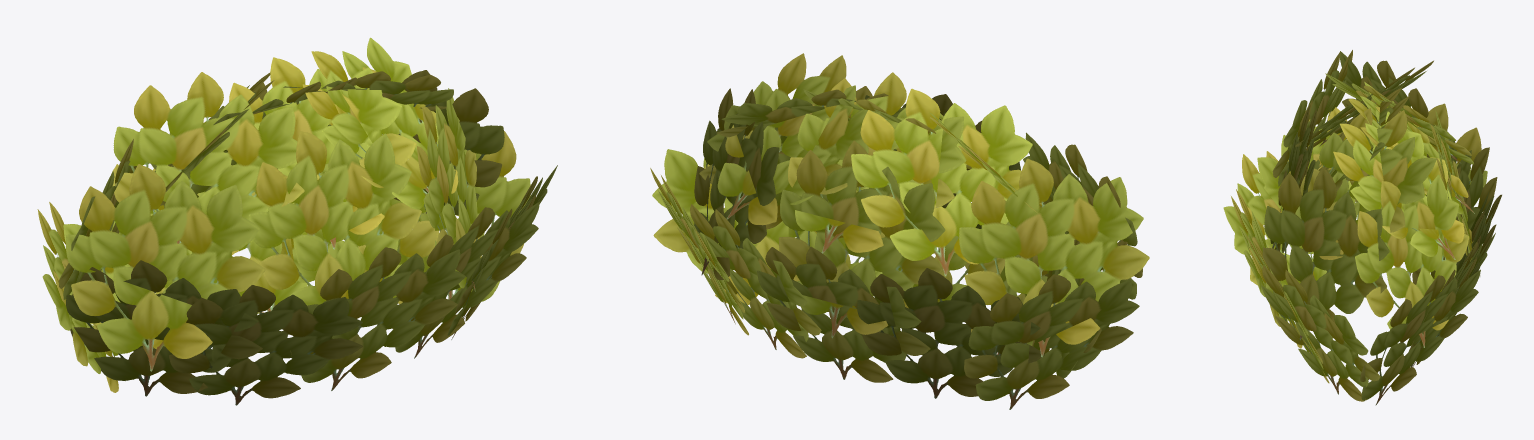
File: light-bush-003-56.glb
3 views of the same model, side by side, from view 1: azimuth 30°, elevation 25°; view 2: azimuth 150°, elevation 25°; view 3: azimuth 270°, elevation 25° (orthographic). The views are drawn at different scales.
Parts seen in each view (by area): view 1: light_bush.003_56; view 2: light_bush.003_56; view 3: light_bush.003_56.
Part boxes in pixels (bbox=[...]): light_bush.003_56: bbox=[37, 37, 557, 405]; light_bush.003_56: bbox=[650, 53, 1149, 409]; light_bush.003_56: bbox=[1223, 50, 1501, 405].
Size of the model in its own units: 20.07 by 11.8 by 11.05.
Materials: 1 (1 with a texture image).
